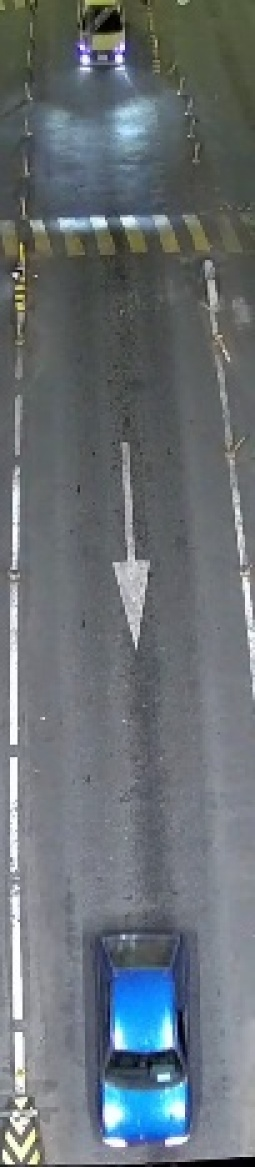car: (60, 895, 215, 1157)
